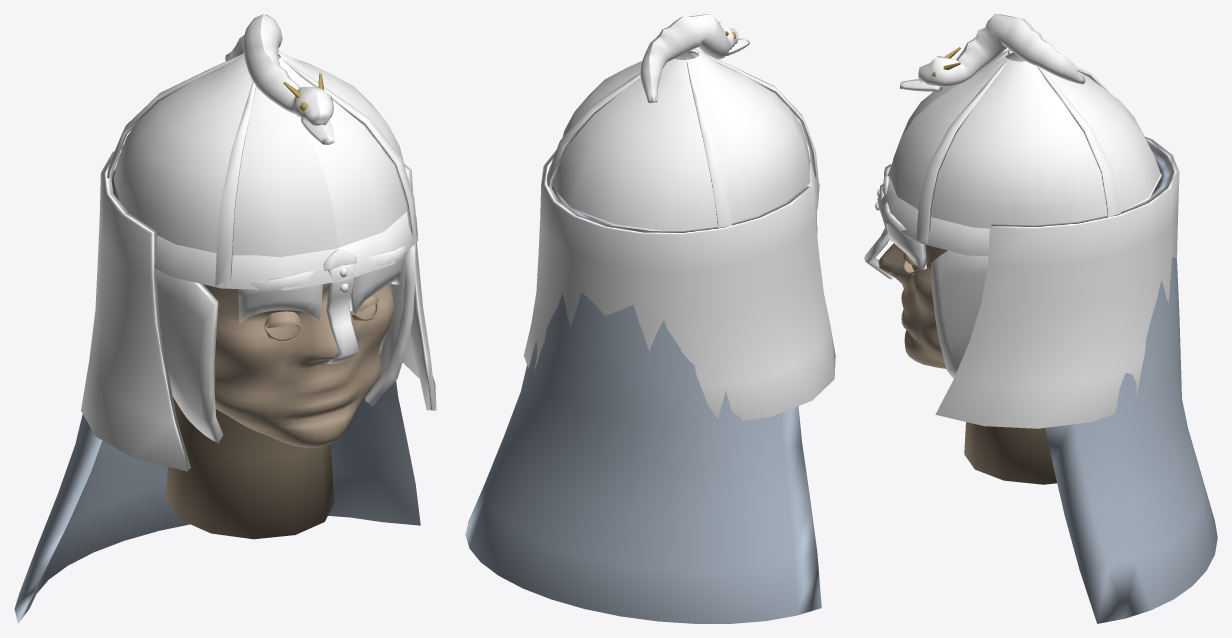
Rendered from helm-huscarl-wyrm.glb.
The picture shows the model from 3 angles, left to right: view 1: azimuth 30°, elevation 25°; view 2: azimuth 150°, elevation 25°; view 3: azimuth 270°, elevation 25°; orthographic projection. The views are drawn at different scales.
Parts seen in each view (by area): view 1: helm-huscarl-wyrm; view 2: helm-huscarl-wyrm; view 3: helm-huscarl-wyrm.
Boxes of the visible parts, x1,y1,x2,y2 form: helm-huscarl-wyrm: (14,14,436,623); helm-huscarl-wyrm: (465,14,835,623); helm-huscarl-wyrm: (864,14,1217,623).
Bounding box in the file's own units: 0.3753 × 0.5279 × 0.3256.
